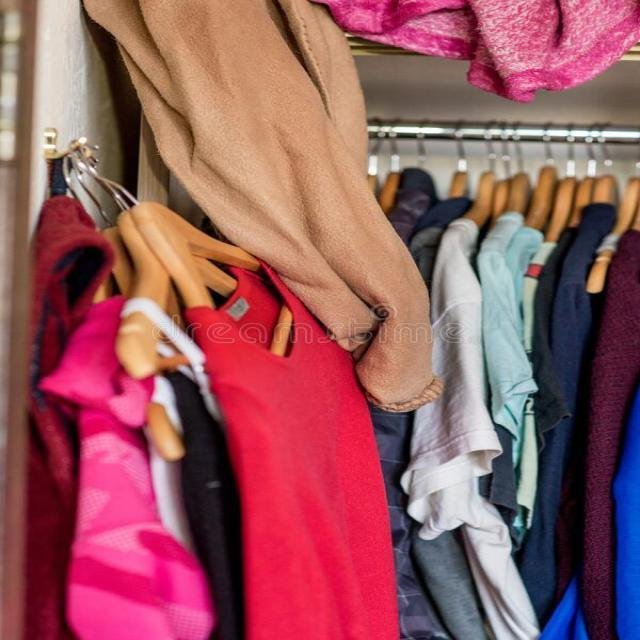clothes: (85, 0, 440, 420), (365, 169, 640, 640), (181, 206, 451, 631), (39, 259, 269, 640), (306, 7, 640, 112)
